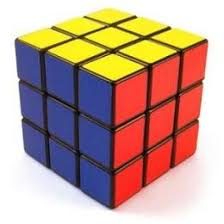rubik_cube: (11, 4, 213, 214)
